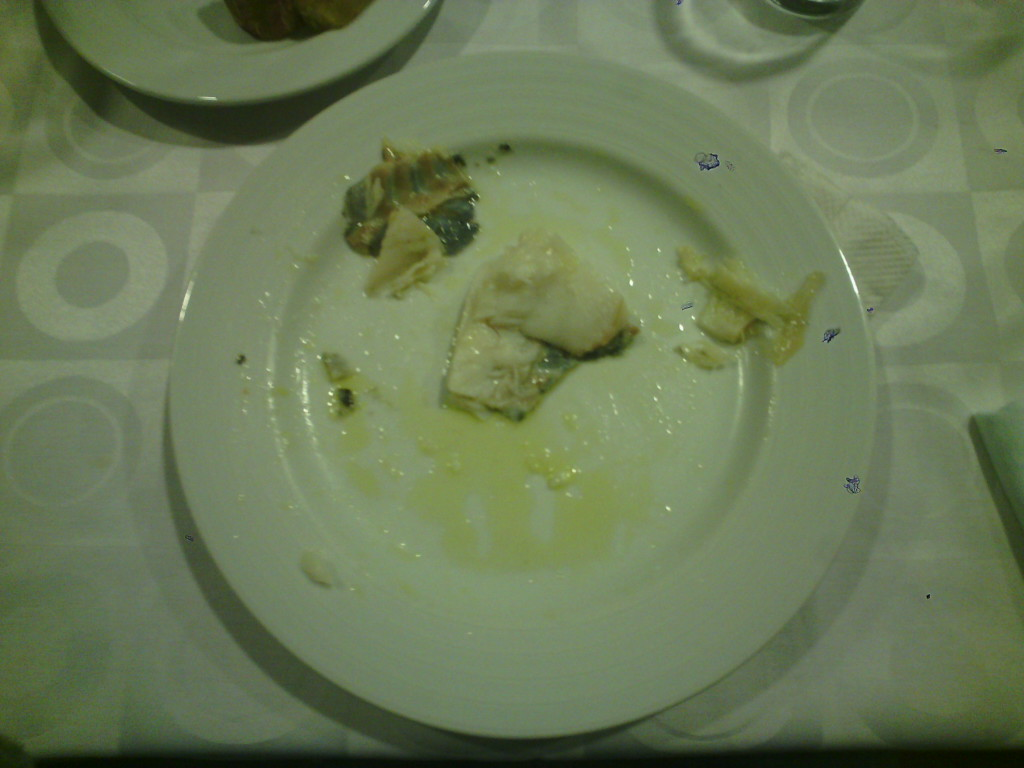0-20: (173, 49, 875, 741)
